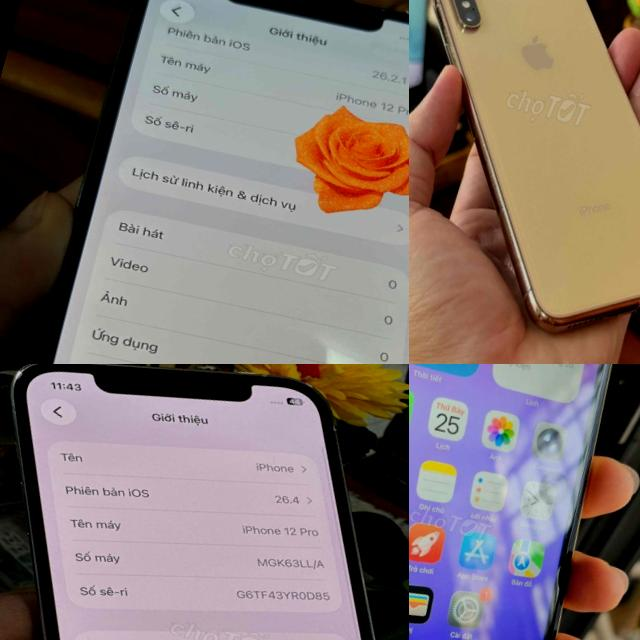gen_11: (409, 364, 640, 640)
gen_12_13: (0, 0, 409, 364), (0, 364, 409, 640)
gen_x_xs: (433, 0, 640, 330)
